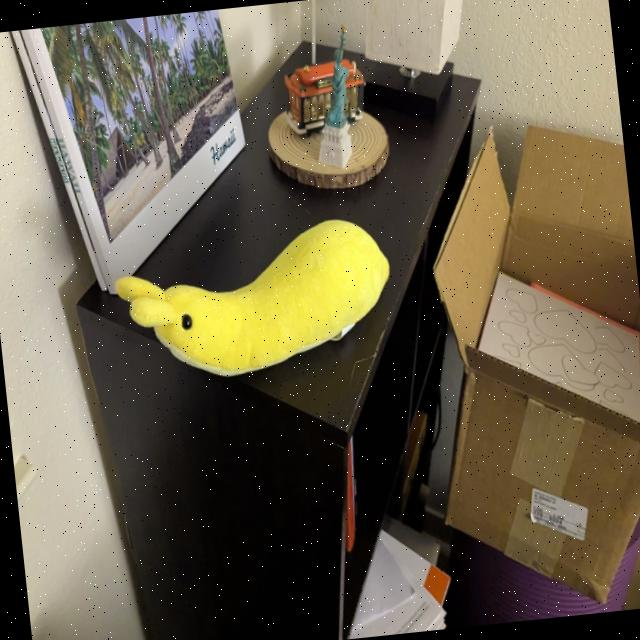banana-slug-toy: (108, 212, 409, 394)
